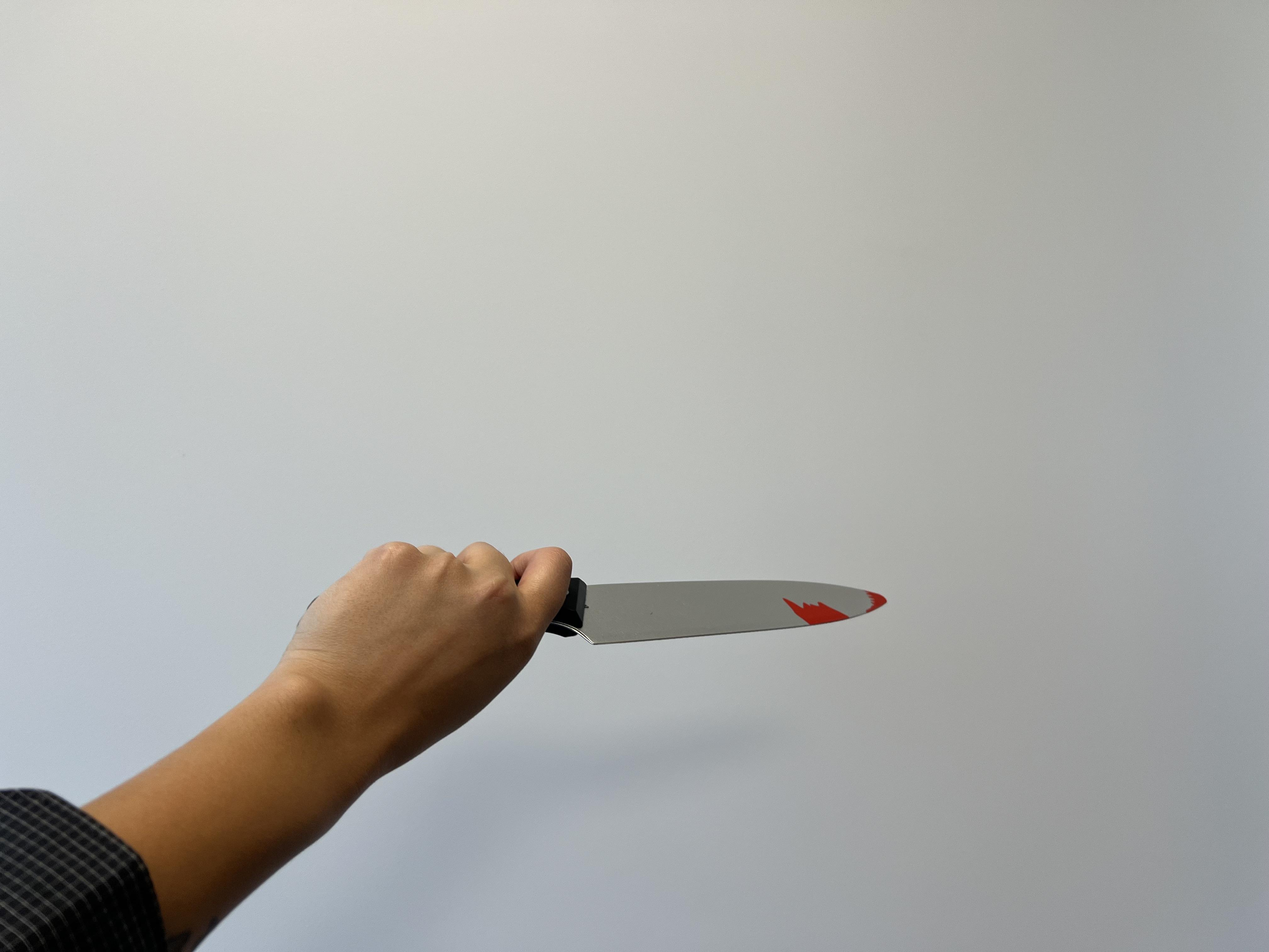Knife: (0, 543, 572, 952), (295, 545, 571, 749), (561, 577, 886, 646)
